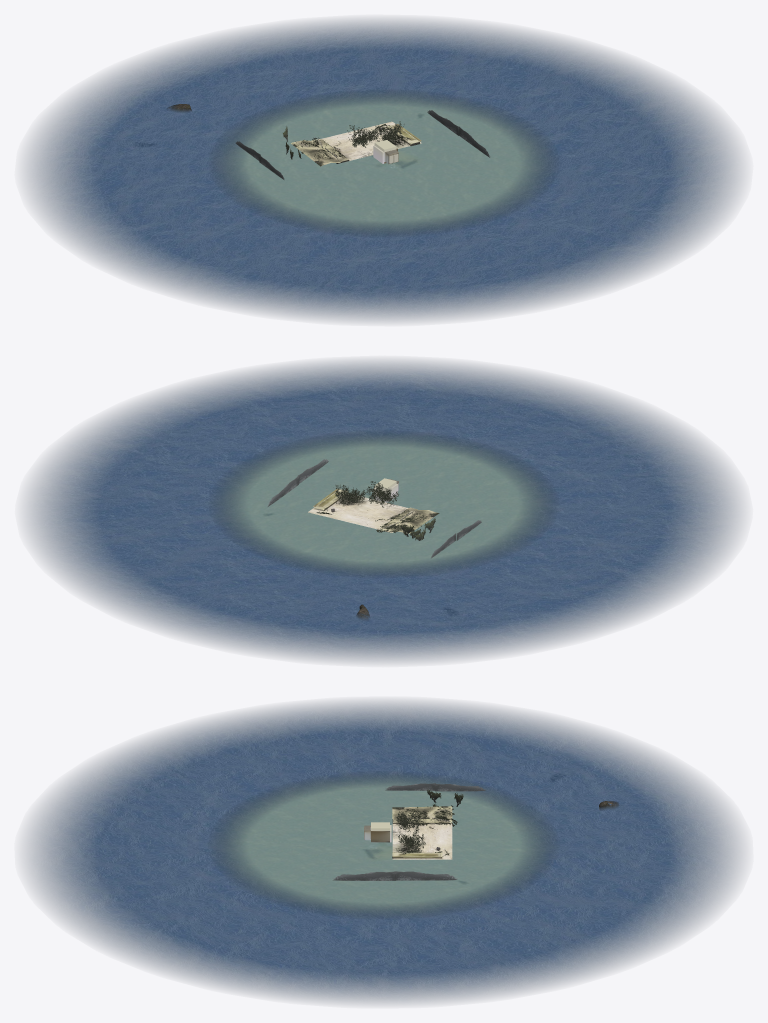
3 renders of one model, top to bottom at view 1: azimuth 30°, elevation 25°; view 2: azimuth 150°, elevation 25°; view 3: azimuth 270°, elevation 25°, orthographic.
Parts seen in each view (by area): view 1: gltf joined final pls.001, Sphere ocean shallow; view 2: gltf joined final pls.001, Sphere ocean shallow; view 3: gltf joined final pls.001, Sphere ocean shallow.
Part boxes in pixels (left/top/right/bottom): gltf joined final pls.001: left=25, top=19, right=742, bottom=321; Sphere ocean shallow: left=213, top=91, right=554, bottom=235; gltf joined final pls.001: left=25, top=360, right=742, bottom=662; Sphere ocean shallow: left=213, top=432, right=554, bottom=576; gltf joined final pls.001: left=24, top=700, right=743, bottom=1004; Sphere ocean shallow: left=213, top=773, right=554, bottom=917.
Size of the model in its own units: 125 by 10.55 by 125.
28 materials, 26 textured.
